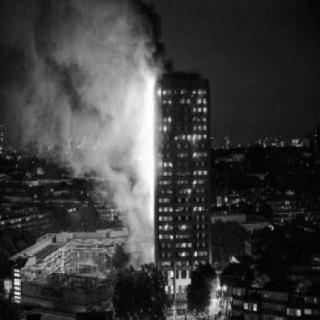Fire: (133, 72, 159, 215)
